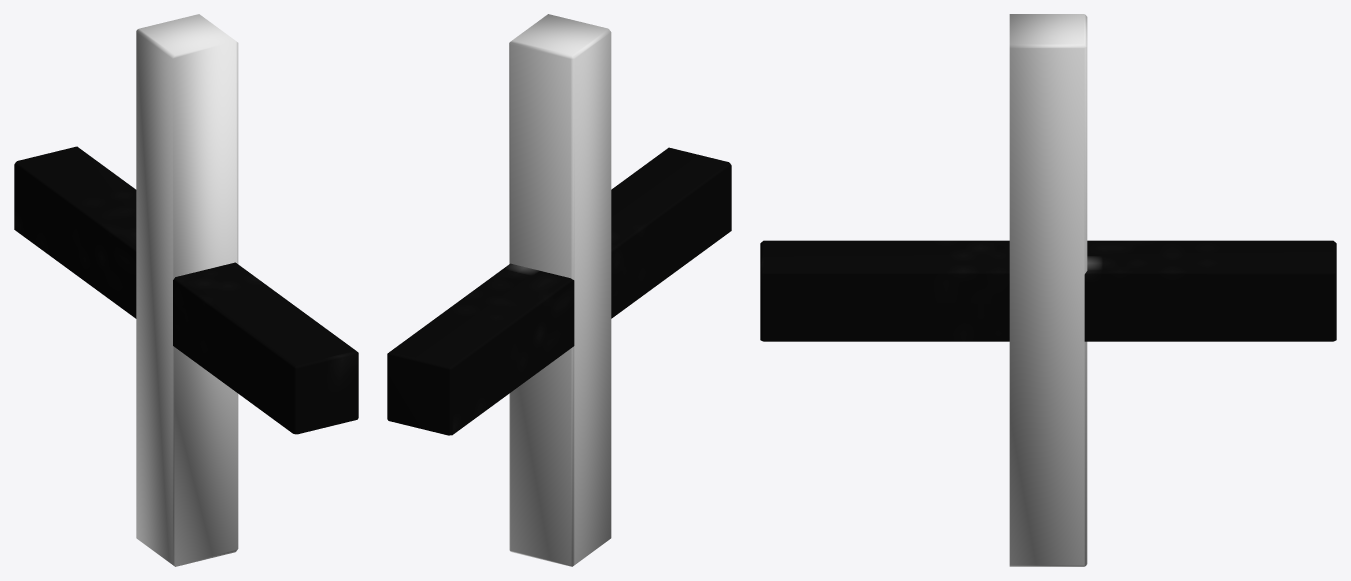
The model's file is SM_Step_Entrance_Door.fbx.
3 views of the same model, side by side, from view 1: azimuth 30°, elevation 25°; view 2: azimuth 150°, elevation 25°; view 3: azimuth 270°, elevation 25° (orthographic). The views are drawn at different scales.
Parts seen in each view (by area): view 1: SM_Step_Entrance_Door_ConvexHulls, SM_Step_Entrance_Door; view 2: SM_Step_Entrance_Door_ConvexHulls, SM_Step_Entrance_Door; view 3: SM_Step_Entrance_Door, SM_Step_Entrance_Door_ConvexHulls.
Part boxes in pixels (box(x1,y1,x2,y2)): SM_Step_Entrance_Door_ConvexHulls: box(136, 14, 238, 566); SM_Step_Entrance_Door: box(14, 146, 358, 434); SM_Step_Entrance_Door_ConvexHulls: box(509, 14, 611, 566); SM_Step_Entrance_Door: box(387, 147, 731, 435); SM_Step_Entrance_Door: box(760, 240, 1336, 341); SM_Step_Entrance_Door_ConvexHulls: box(1009, 14, 1087, 566).
Size of the model in its own units: 0.202 by 1.5 by 1.5.
